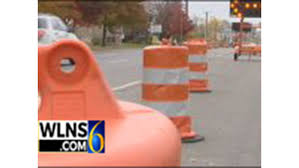barrel: (142, 48, 193, 137), (189, 43, 206, 93)
